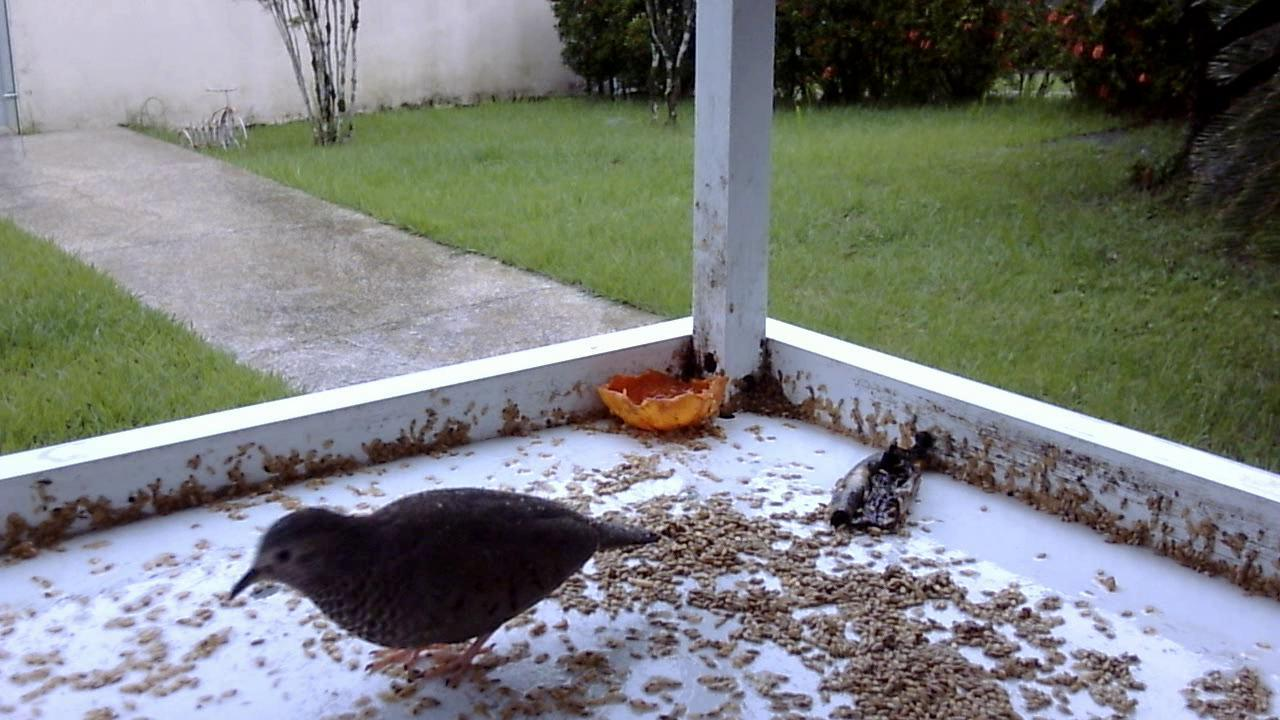rolinha: (215, 472, 673, 702)
